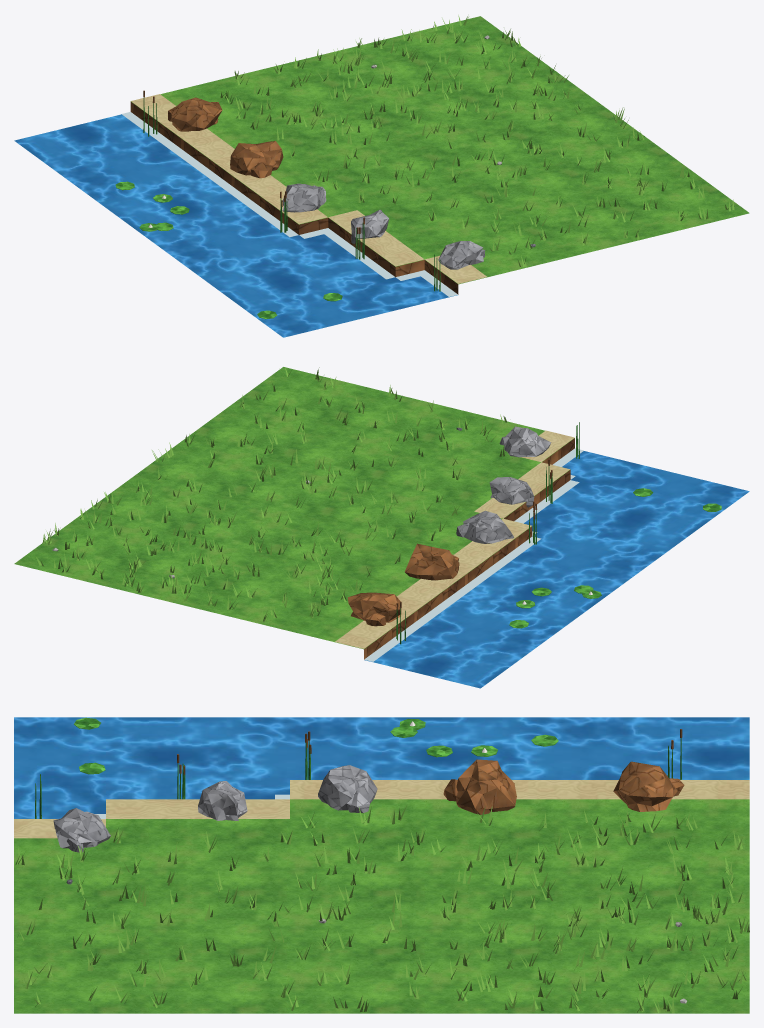
Rendered from chunk_4_7.glb.
3 renders of one model, top to bottom at view 1: azimuth 30°, elevation 25°; view 2: azimuth 150°, elevation 25°; view 3: azimuth 270°, elevation 25°, orthographic. The views are drawn at different scales.
Visible parts, largest first — view 1: chunk_4_7; view 2: chunk_4_7; view 3: chunk_4_7.
Boxes of the visible parts, x1,y1,x2,y2 form: chunk_4_7: (14,15,749,337); chunk_4_7: (14,367,749,688); chunk_4_7: (14,717,749,1013).
Size of the model in its own units: 16.12 by 1.49 by 16.01.
Materials: 14 (11 with a texture image).
